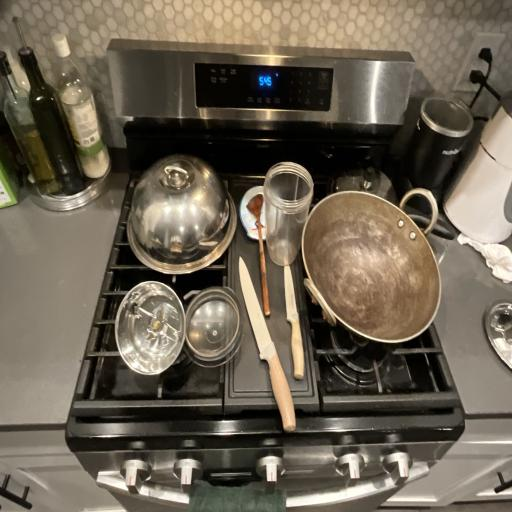Pan: (296, 170, 454, 370)
Stove: (93, 80, 468, 456)
knife: (231, 258, 302, 438), (272, 240, 320, 380)
